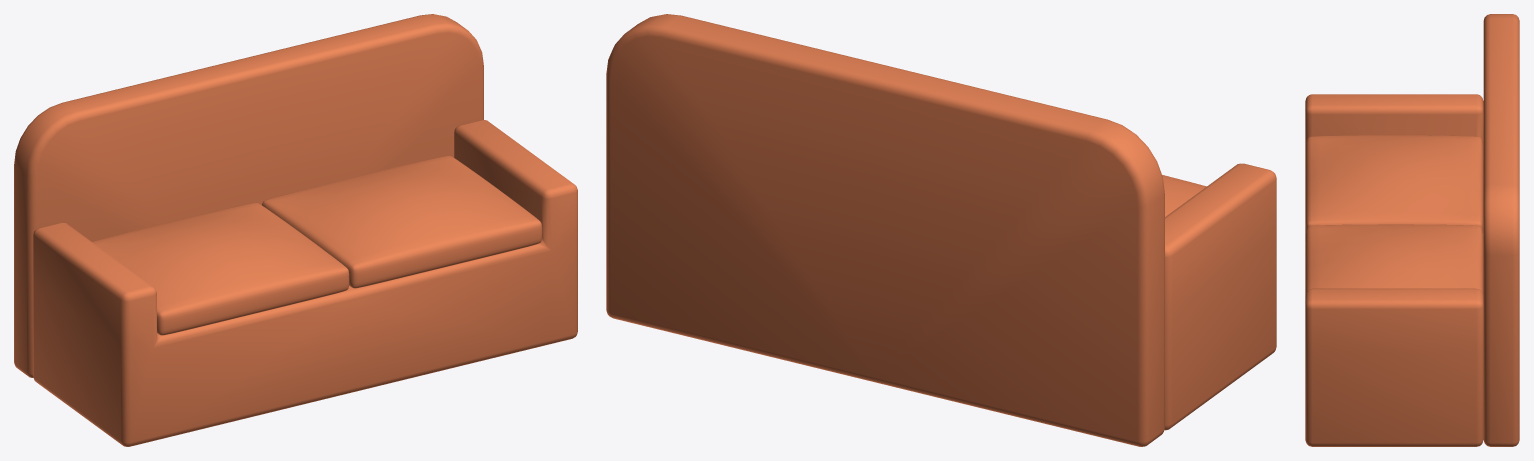
Rendered from sofa.fbx.
3 views of the same model, side by side, from view 1: azimuth 30°, elevation 25°; view 2: azimuth 150°, elevation 25°; view 3: azimuth 270°, elevation 25° (orthographic). The views are drawn at different scales.
Parts seen in each view (by area): view 1: Sofa; view 2: Sofa; view 3: Sofa.
Part boxes in pixels (x1,y1,x2,y2): Sofa: (14,14,577,446); Sofa: (606,14,1276,446); Sofa: (1305,14,1519,446).
Bounding box in the file's own units: 140 × 74.96 × 60.13.
